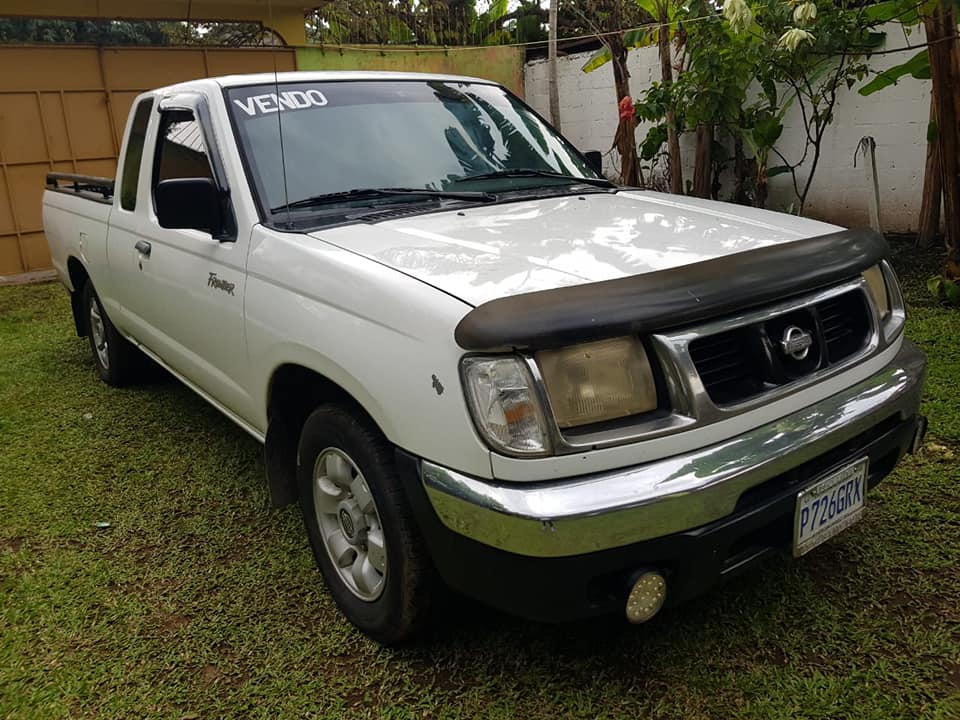pickup: (38, 67, 926, 612)
